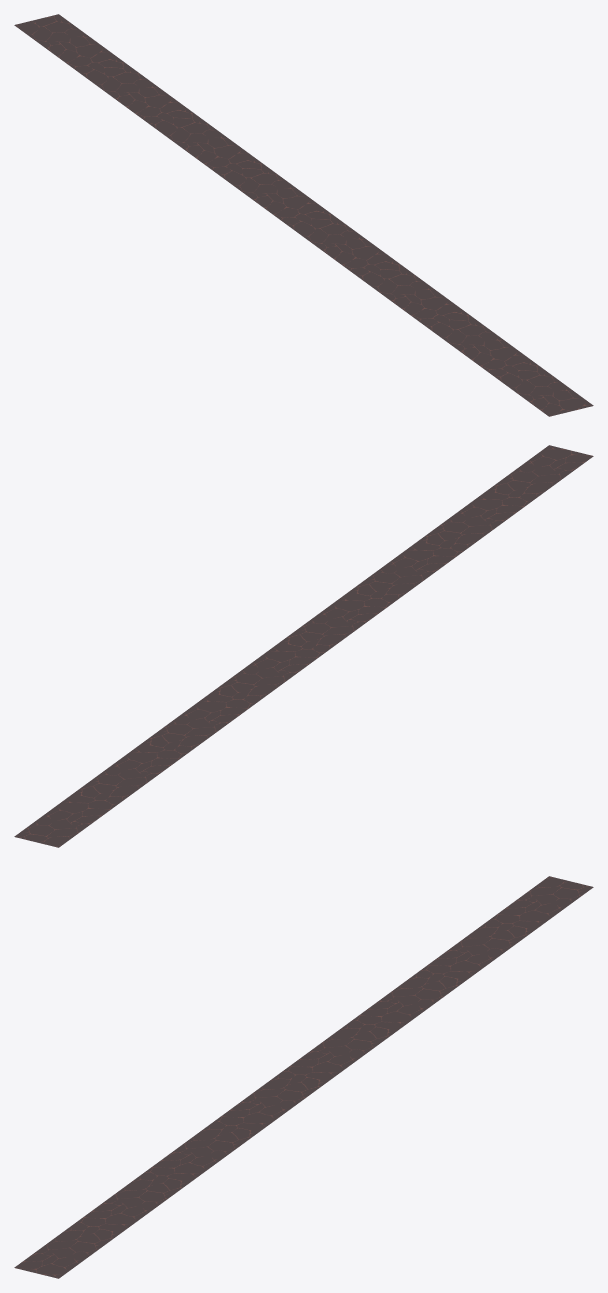
Rendered from Mesh_Adventure_Volcano_Variant_Ground_01.fbx.
3 renders of one model, top to bottom at view 1: azimuth 30°, elevation 25°; view 2: azimuth 150°, elevation 25°; view 3: azimuth 330°, elevation 25°, orthographic.
Parts seen in each view (by area): view 1: Mesh_Adventure_Volcano_Variant_Ground_01; view 2: Mesh_Adventure_Volcano_Variant_Ground_01; view 3: Mesh_Adventure_Volcano_Variant_Ground_01.
Boxes of the visible parts, x1,y1,x2,y2 form: Mesh_Adventure_Volcano_Variant_Ground_01: (14,14,593,416); Mesh_Adventure_Volcano_Variant_Ground_01: (14,445,593,847); Mesh_Adventure_Volcano_Variant_Ground_01: (14,876,593,1278).
Bounding box in the file's own units: 169 × 1.78e-13 × 3500.
